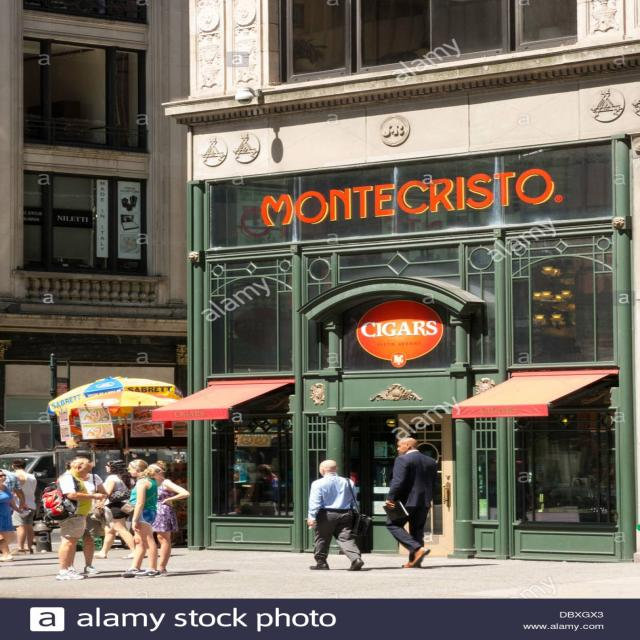body: (306, 458, 375, 572), (381, 436, 440, 569), (53, 457, 105, 581), (119, 457, 163, 578), (146, 460, 192, 574), (64, 455, 107, 576), (92, 458, 136, 560), (227, 459, 285, 518), (8, 458, 39, 556), (0, 469, 32, 552), (327, 561, 499, 575), (9, 457, 32, 555), (78, 568, 240, 580), (0, 558, 58, 582), (142, 553, 189, 558)
